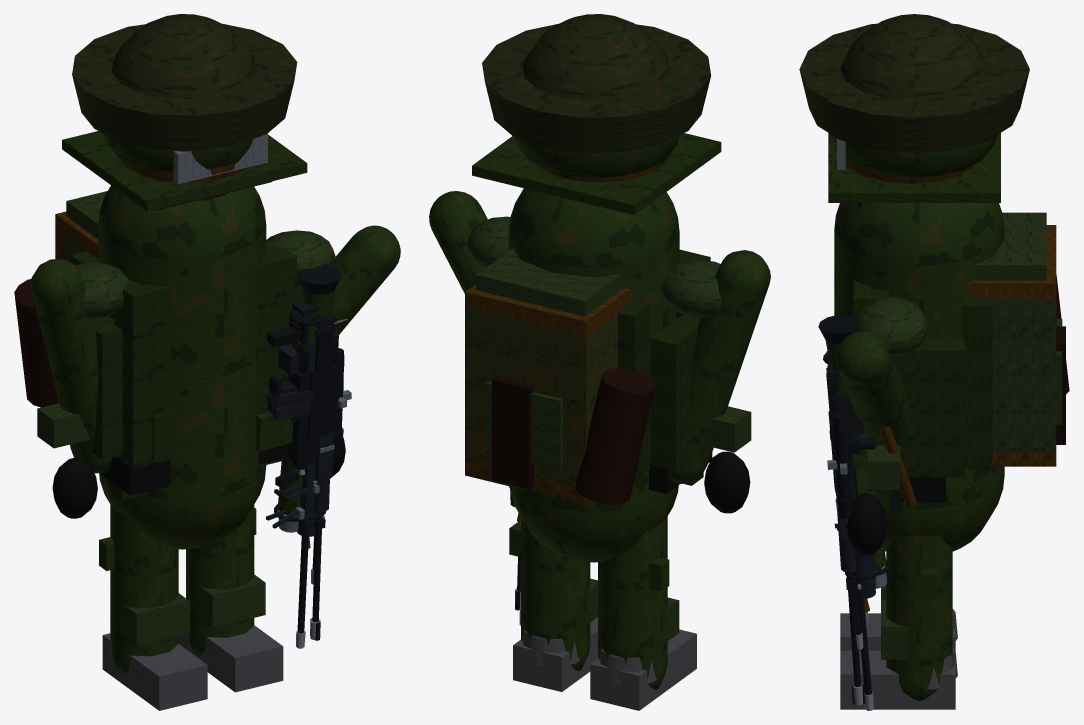
File: human_units.glb
The picture shows the model from 3 angles, left to right: view 1: azimuth 30°, elevation 25°; view 2: azimuth 150°, elevation 25°; view 3: azimuth 270°, elevation 25°; orthographic projection.
Parts seen in each view (by area): view 1: unit_torso_mesh, unit_helmet_shell (×2), unit_vest_front, unit_helmet_crown, unit_arm_left_mesh, unit_leg_left_mesh, unit_helmet_brim, unit_leg_right_mesh, unit_boot_left_mesh, unit_arm_right_mesh, unit_boot_right_mesh, unit_vest_side_l (+22 smaller); view 2: unit_pack_mesh (×2), unit_torso_mesh, unit_helmet_shell (×2), unit_helmet_crown, unit_arm_left_mesh, unit_leg_left_mesh, unit_helmet_brim, unit_tool_canister_mesh, unit_leg_right_mesh, unit_vest_side_l, unit_pack_top_flap, unit_tool_canister2 (+15 smaller); view 3: unit_torso_mesh, unit_helmet_shell (×2), unit_pack_mesh (×2), unit_helmet_crown, unit_vest_side_r, unit_leg_right_mesh, unit_arm_right_mesh, unit_helmet_brim, unit_vest_back_plate, unit_pack_top_flap, unit_boot_right_mesh, unit_pad_right_mesh (+18 smaller).
Boxes of the visible parts, x1=… form: unit_torso_mesh: x1=98, y1=185, x2=266, y2=549; unit_helmet_shell (×2): x1=72, y1=23, x2=297, y2=172; unit_vest_front: x1=115, y1=245, x2=296, y2=468; unit_helmet_crown: x1=112, y1=14, x2=257, y2=98; unit_arm_left_mesh: x1=30, y1=258, x2=111, y2=473; unit_leg_left_mesh: x1=110, y1=504, x2=178, y2=674; unit_helmet_brim: x1=62, y1=131, x2=307, y2=211; unit_leg_right_mesh: x1=186, y1=505, x2=254, y2=655; unit_boot_left_mesh: x1=102, y1=633, x2=207, y2=710; unit_arm_right_mesh: x1=331, y1=225, x2=400, y2=334; unit_boot_right_mesh: x1=178, y1=625, x2=283, y2=692; unit_vest_side_l: x1=57, y1=316, x2=122, y2=459; unit_pack_mesh (×2): x1=465, y1=284, x2=631, y2=504; unit_torso_mesh: x1=508, y1=188, x2=679, y2=562; unit_helmet_shell (×2): x1=482, y1=23, x2=711, y2=177; unit_helmet_crown: x1=522, y1=14, x2=670, y2=100; unit_arm_left_mesh: x1=667, y1=250, x2=770, y2=483; unit_leg_left_mesh: x1=598, y1=516, x2=667, y2=689; unit_helmet_brim: x1=472, y1=133, x2=721, y2=215; unit_tool_canister_mesh: x1=575, y1=368, x2=655, y2=504; unit_leg_right_mesh: x1=521, y1=517, x2=590, y2=670; unit_vest_side_l: x1=650, y1=314, x2=700, y2=471; unit_pack_top_flap: x1=476, y1=248, x2=621, y2=316; unit_tool_canister2: x1=491, y1=376, x2=533, y2=488; unit_torso_mesh: x1=834, y1=203, x2=1004, y2=551; unit_helmet_shell (×2): x1=799, y1=23, x2=1029, y2=177; unit_pack_mesh (×2): x1=966, y1=225, x2=1056, y2=466; unit_helmet_crown: x1=840, y1=14, x2=989, y2=100; unit_vest_side_r: x1=874, y1=338, x2=964, y2=476; unit_leg_right_mesh: x1=886, y1=535, x2=952, y2=701; unit_arm_right_mesh: x1=835, y1=331, x2=910, y2=442; unit_helmet_brim: x1=828, y1=133, x2=1000, y2=202; unit_vest_back_plate: x1=961, y1=298, x2=992, y2=469; unit_pack_top_flap: x1=973, y1=212, x2=1046, y2=280; unit_boot_right_mesh: x1=840, y1=650, x2=955, y2=709; unit_pad_right_mesh: x1=854, y1=297, x2=928, y2=356.
Size of the model in its own units: 16.87 by 30.45 by 11.25.
76 materials, 65 textured.
